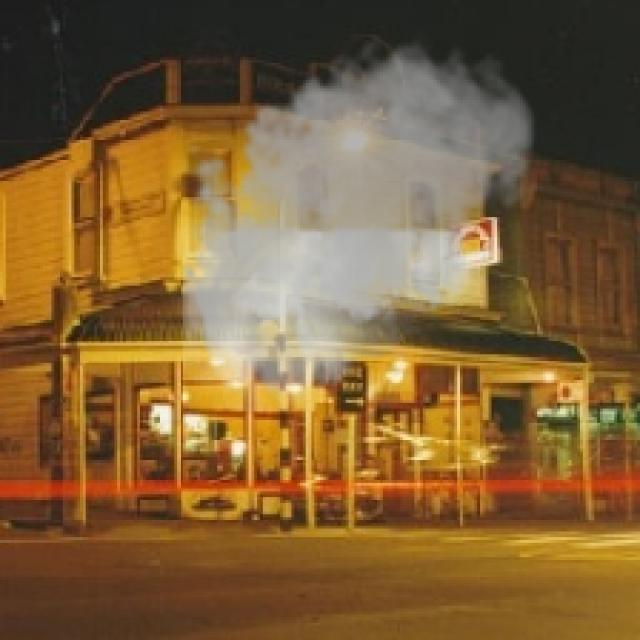smoke: (168, 29, 543, 412)
